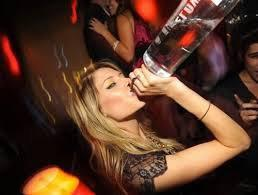Drunk: (94, 69, 144, 113)
